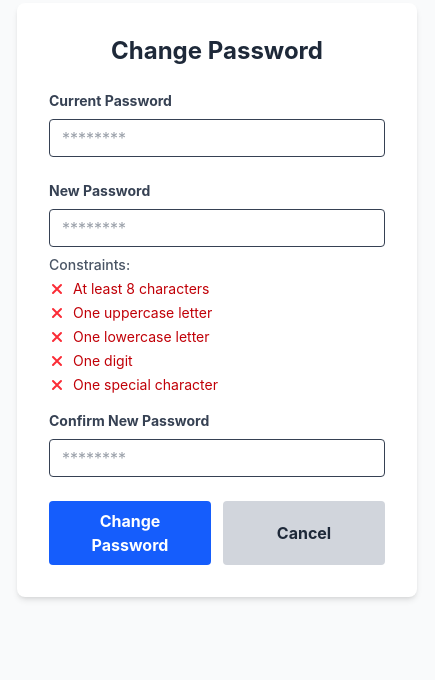
Test: ChangePasswordPage › should show error if passwords do not match
The image size is (435, 680).
Type "OldPass123!" into the password field labelled "Current Password" at point(217, 138), box [49, 119, 385, 157]
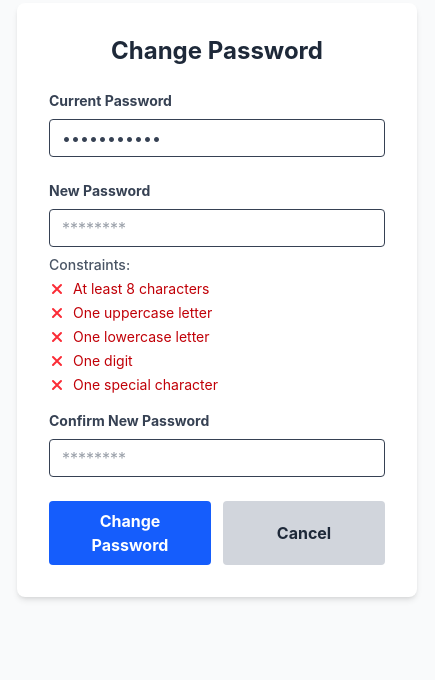
Type "NewPass123!" into the password field labelled "New Password" at point(217, 228), box [49, 209, 385, 247]
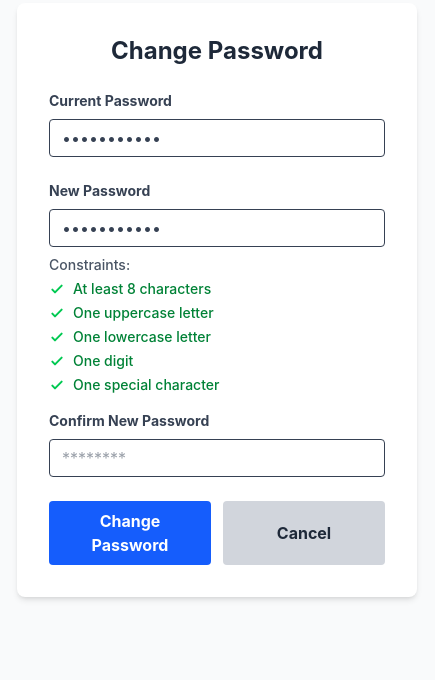
Type "DifferentPass123!" into the password field labelled "Confirm New Password" at point(217, 458), box [49, 439, 385, 477]
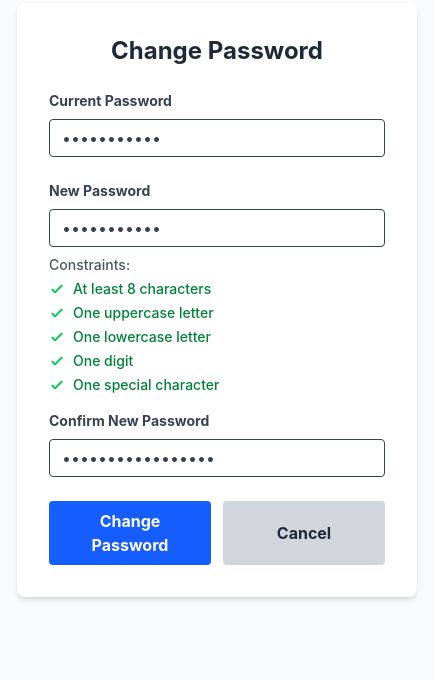
Click the button "Change Password" at point(130, 533), box [49, 501, 211, 565]
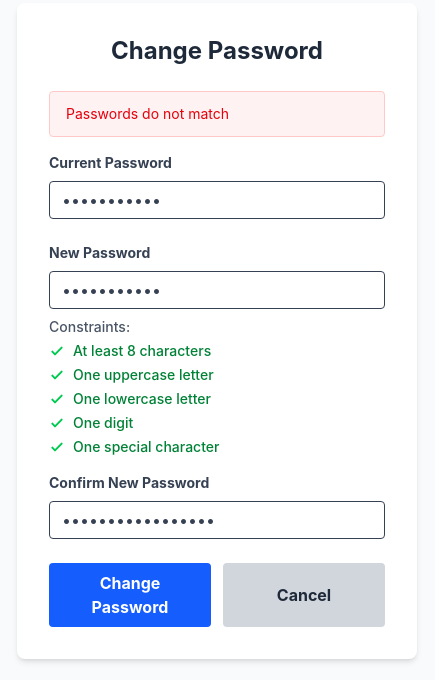
Check: the text "Passwords do not match" is shown, box [66, 105, 229, 122]
